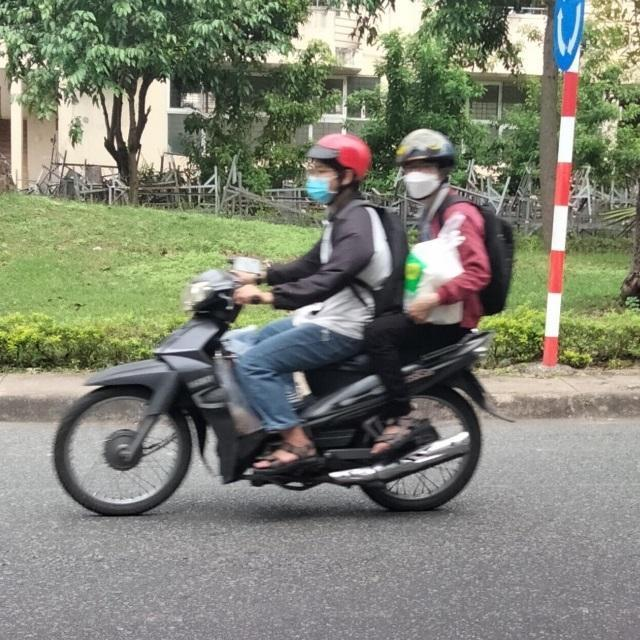Helmet: (304, 132, 370, 208), (396, 129, 454, 203)
